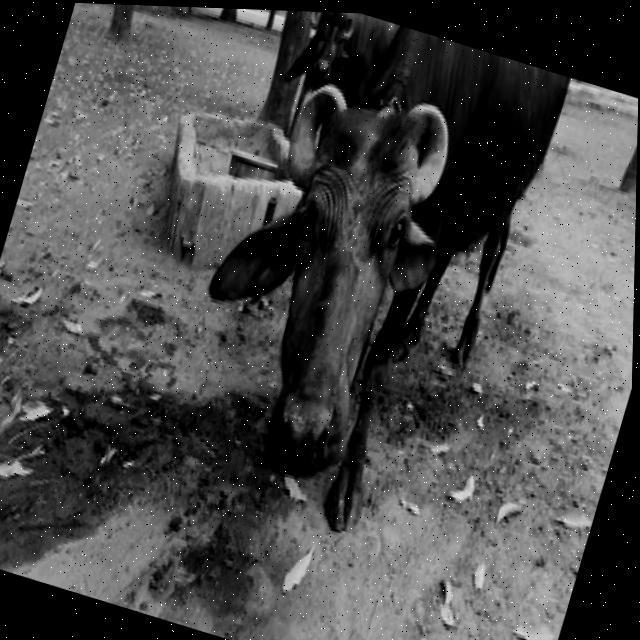Buffalo: (151, 6, 575, 562)
